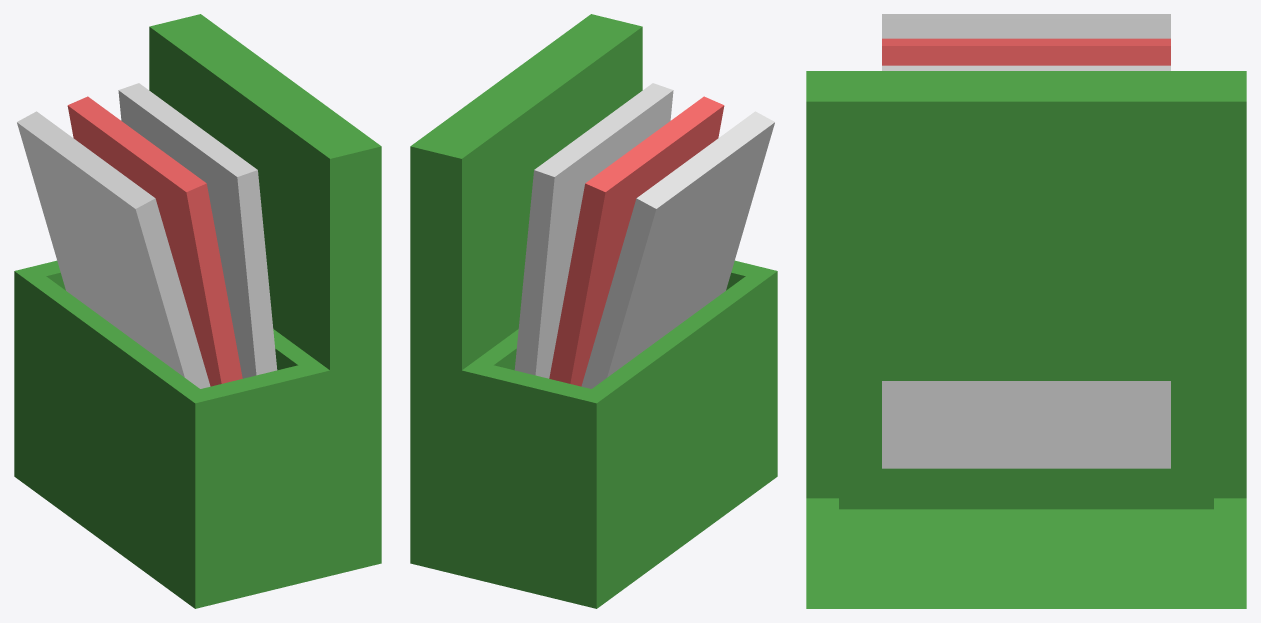
The model's file is Journals.fbx.
3 views of the same model, side by side, from view 1: azimuth 30°, elevation 25°; view 2: azimuth 150°, elevation 25°; view 3: azimuth 270°, elevation 25° (orthographic). The views are drawn at different scales.
Parts seen in each view (by area): view 1: Journals; view 2: Journals; view 3: Journals.
Boxes of the visible parts, box(x1,y1,x2,y2) form: Journals: box(14, 14, 381, 608); Journals: box(410, 14, 777, 608); Journals: box(806, 14, 1246, 608).
Size of the model in its own units: 28.51 by 52.83 by 41.52.
